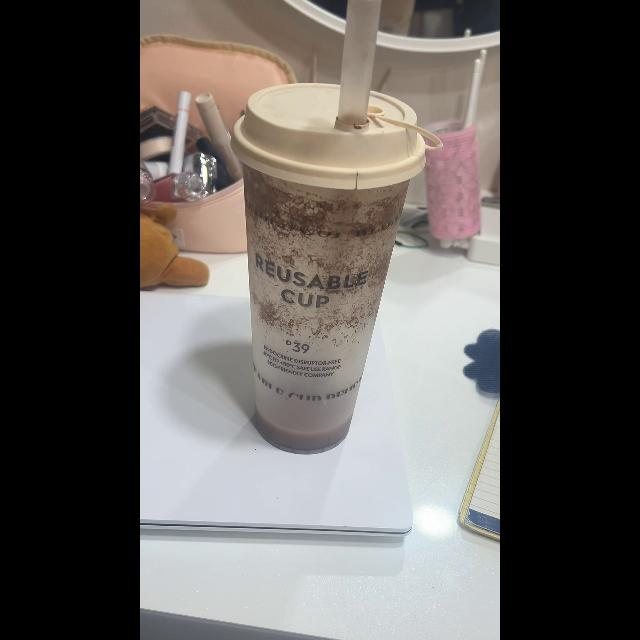dirty: (238, 165, 408, 461)
